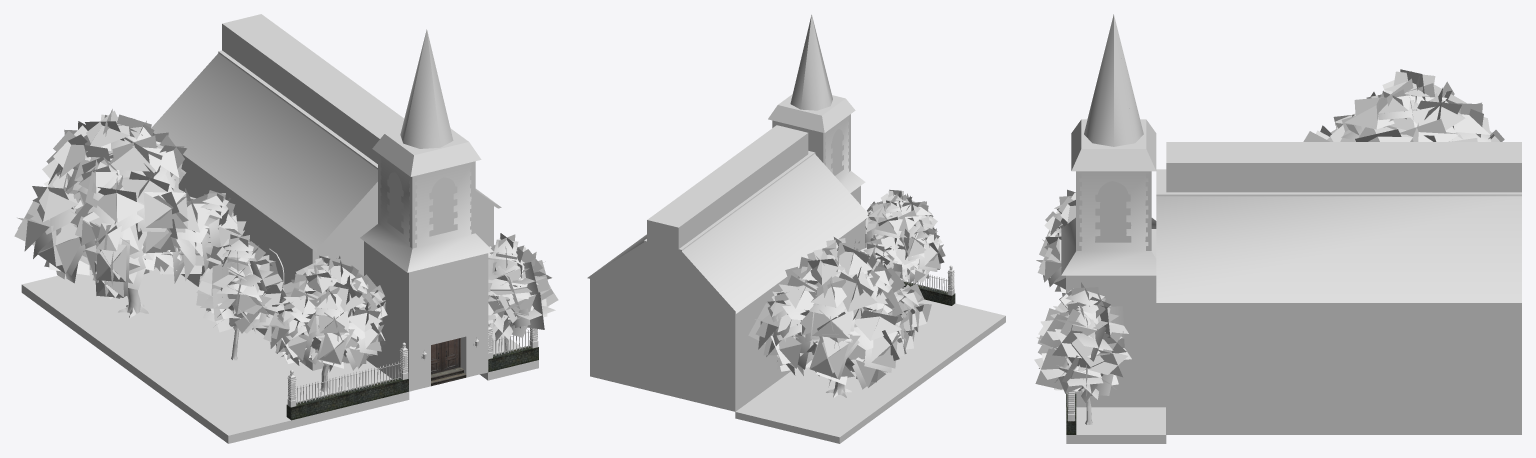
File: Church_Geo.fbx
The picture shows the model from 3 angles, left to right: view 1: azimuth 30°, elevation 25°; view 2: azimuth 150°, elevation 25°; view 3: azimuth 270°, elevation 25°; orthographic projection. The views are drawn at different scales.
Parts seen in each view (by area): view 1: prop_static_66780, prop_static_67145, worldspawn_1_5713, prop_static_67143, prop_static_67146, worldspawn_1_41914, prop_static_67144, worldspawn_1_4291, worldspawn_1_41900, worldspawn_1_4431, worldspawn_1_5706, prop_static_67142 (+5 smaller); view 2: prop_static_66780, prop_static_67145, worldspawn_1_5713, worldspawn_1_4298, worldspawn_1_4291, prop_static_67143, worldspawn_1_4305, prop_static_67146, worldspawn_1_4431; view 3: prop_static_66780, worldspawn_1_4305, prop_static_67145, prop_static_67144, worldspawn_1_41907, worldspawn_1_4438, prop_static_67143.
Part boxes in pixels (x1=…): prop_static_66780: x1=151, y1=14, x2=501, y2=391; prop_static_67145: x1=14, y1=109, x2=246, y2=317; worldspawn_1_5713: x1=21, y1=267, x2=358, y2=443; prop_static_67143: x1=262, y1=255, x2=387, y2=391; prop_static_67146: x1=196, y1=234, x2=283, y2=360; worldspawn_1_41914: x1=411, y1=254, x2=483, y2=349; prop_static_67144: x1=488, y1=233, x2=558, y2=351; worldspawn_1_4291: x1=153, y1=133, x2=312, y2=370; worldspawn_1_41900: x1=364, y1=241, x2=406, y2=378; worldspawn_1_4431: x1=286, y1=377, x2=408, y2=420; worldspawn_1_5706: x1=313, y1=360, x2=409, y2=412; prop_static_67142: x1=296, y1=361, x2=401, y2=404; prop_static_66780: x1=587, y1=14, x2=868, y2=314; prop_static_67145: x1=748, y1=237, x2=931, y2=397; worldspawn_1_5713: x1=735, y1=299, x2=1005, y2=443; worldspawn_1_4298: x1=602, y1=282, x2=722, y2=408; worldspawn_1_4291: x1=723, y1=220, x2=864, y2=411; prop_static_67143: x1=865, y1=189, x2=945, y2=283; worldspawn_1_4305: x1=590, y1=279, x2=602, y2=379; prop_static_67146: x1=860, y1=241, x2=905, y2=290; worldspawn_1_4431: x1=903, y1=281, x2=955, y2=305; prop_static_66780: x1=1061, y1=14, x2=1521, y2=434; worldspawn_1_4305: x1=1169, y1=303, x2=1516, y2=434; prop_static_67145: x1=1303, y1=69, x2=1504, y2=141; prop_static_67144: x1=1034, y1=282, x2=1131, y2=424; worldspawn_1_41907: x1=1069, y1=275, x2=1165, y2=407; worldspawn_1_4438: x1=1066, y1=407, x2=1166, y2=443; prop_static_67143: x1=1036, y1=189, x2=1075, y2=296.
Bounding box in the file's own units: 1503 × 1344 × 1559.
